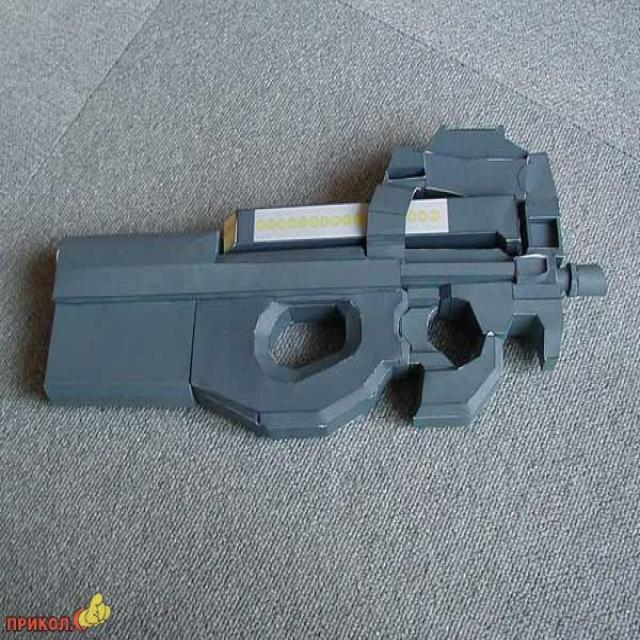firearm: (41, 120, 610, 436)
